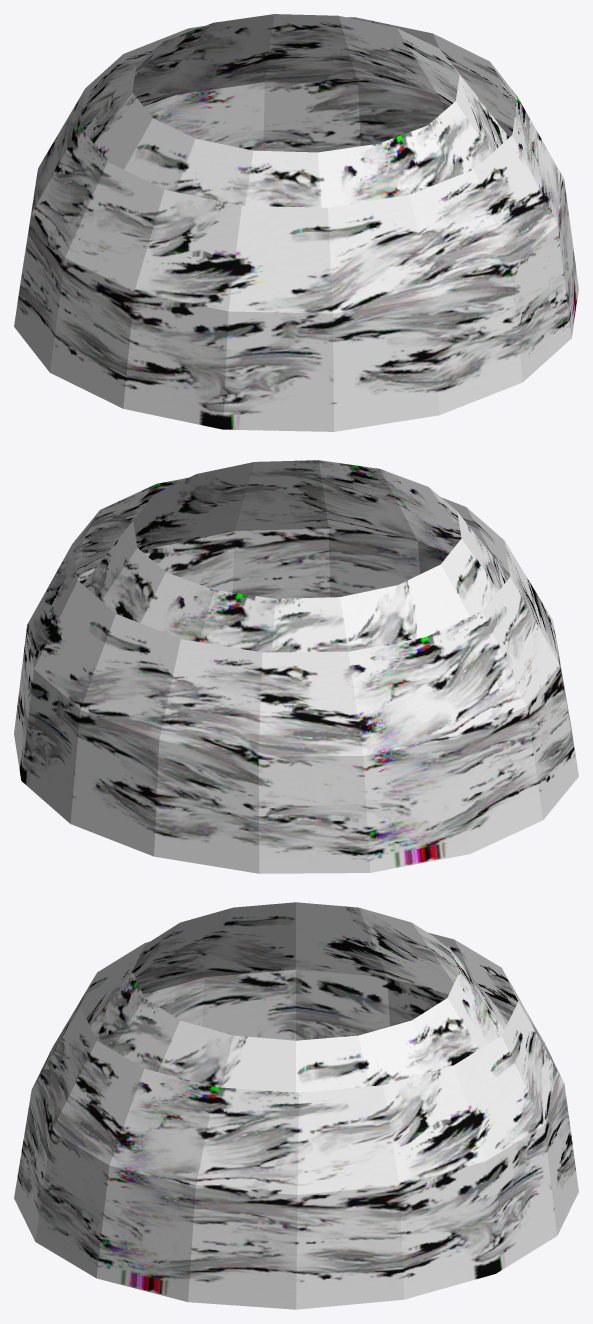
Rendered from EventSkyFX_S8_Halloween.fbx.
The picture shows the model from 3 angles, top to bottom: view 1: azimuth 30°, elevation 25°; view 2: azimuth 150°, elevation 25°; view 3: azimuth 270°, elevation 25°; orthographic projection.
Parts seen in each view (by area): view 1: Clouds_Halloween; view 2: Clouds_Halloween; view 3: Clouds_Halloween.
Part boxes in pixels (x1,y1,x2,y2): Clouds_Halloween: (14, 14, 578, 431); Clouds_Halloween: (14, 460, 578, 873); Clouds_Halloween: (14, 902, 578, 1309).
Size of the model in its own units: 560 by 250 by 561.
